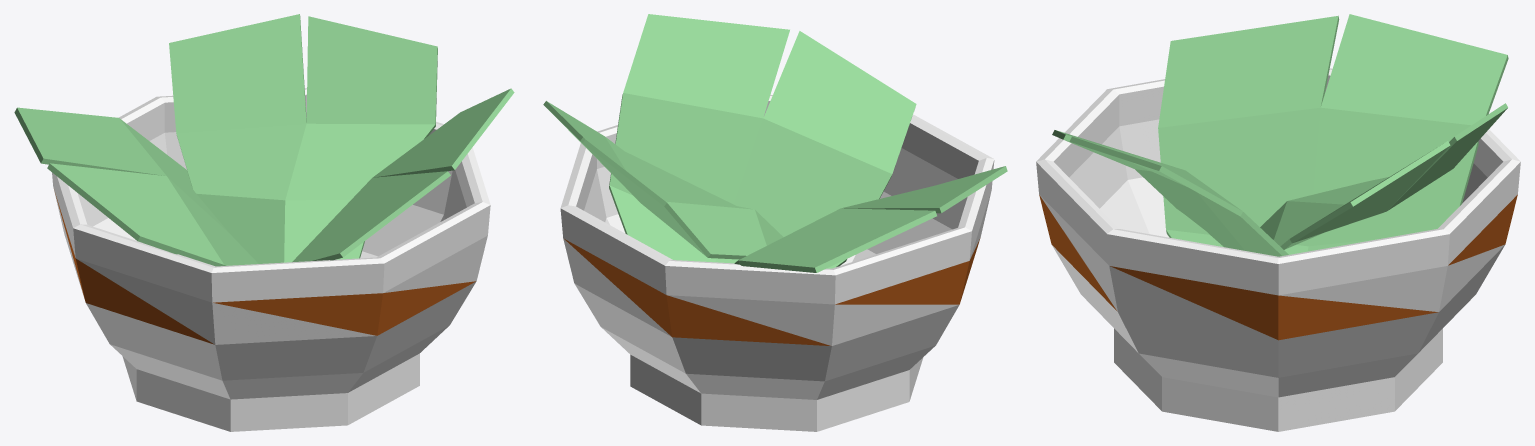
Rendered from salad.glb.
3 views of the same model, side by side, from view 1: azimuth 30°, elevation 25°; view 2: azimuth 150°, elevation 25°; view 3: azimuth 270°, elevation 25° (orthographic). The views are drawn at different scales.
Parts seen in each view (by area): view 1: Saled_Sphere; view 2: Saled_Sphere; view 3: Saled_Sphere.
Boxes of the visible parts, <box> form: Saled_Sphere: <box>14,14,514,431</box>; Saled_Sphere: <box>543,14,1007,431</box>; Saled_Sphere: <box>1036,14,1520,431</box>.
Bounding box in the file's own units: 10.18 × 6.7 × 10.05.
